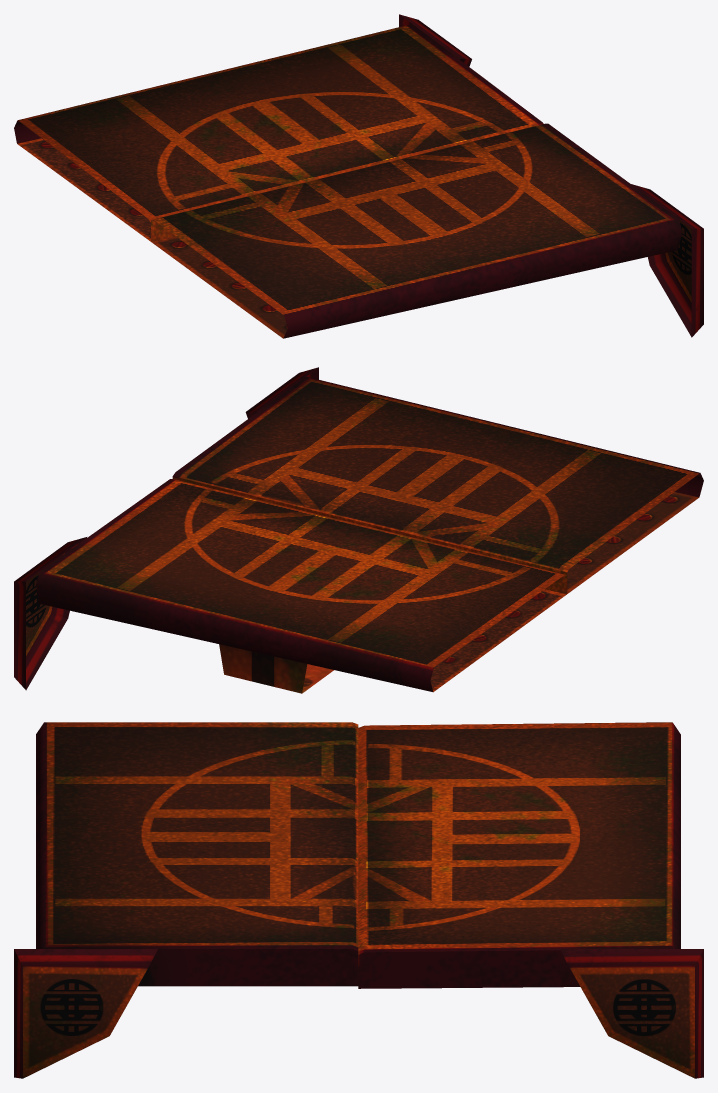
Rendered from MESH_LD14_Trap.fbx.
3 renders of one model, top to bottom at view 1: azimuth 30°, elevation 25°; view 2: azimuth 150°, elevation 25°; view 3: azimuth 270°, elevation 25°, orthographic. The views are drawn at different scales.
Parts seen in each view (by area): view 1: MESH_LD14_Trap2, MESH_LD14_Trap3, MESH_LD14_Trap; view 2: MESH_LD14_Trap3, MESH_LD14_Trap2, MESH_LD14_Trap; view 3: MESH_LD14_Trap2, MESH_LD14_Trap3, MESH_LD14_Trap.
Part boxes in pixels (x1=…): MESH_LD14_Trap2: x1=151, y1=123, x2=682, y2=338; MESH_LD14_Trap3: x1=14, y1=24, x2=543, y2=241; MESH_LD14_Trap: x1=399, y1=14, x2=703, y2=337; MESH_LD14_Trap3: x1=36, y1=479, x2=566, y2=693; MESH_LD14_Trap2: x1=172, y1=376, x2=703, y2=593; MESH_LD14_Trap: x1=14, y1=367, x2=318, y2=690; MESH_LD14_Trap2: x1=36, y1=722, x2=358, y2=986; MESH_LD14_Trap3: x1=358, y1=722, x2=680, y2=988; MESH_LD14_Trap: x1=14, y1=949, x2=703, y2=1078.
Size of the model in its own units: 1.04 by 0.2641 by 1.29.
